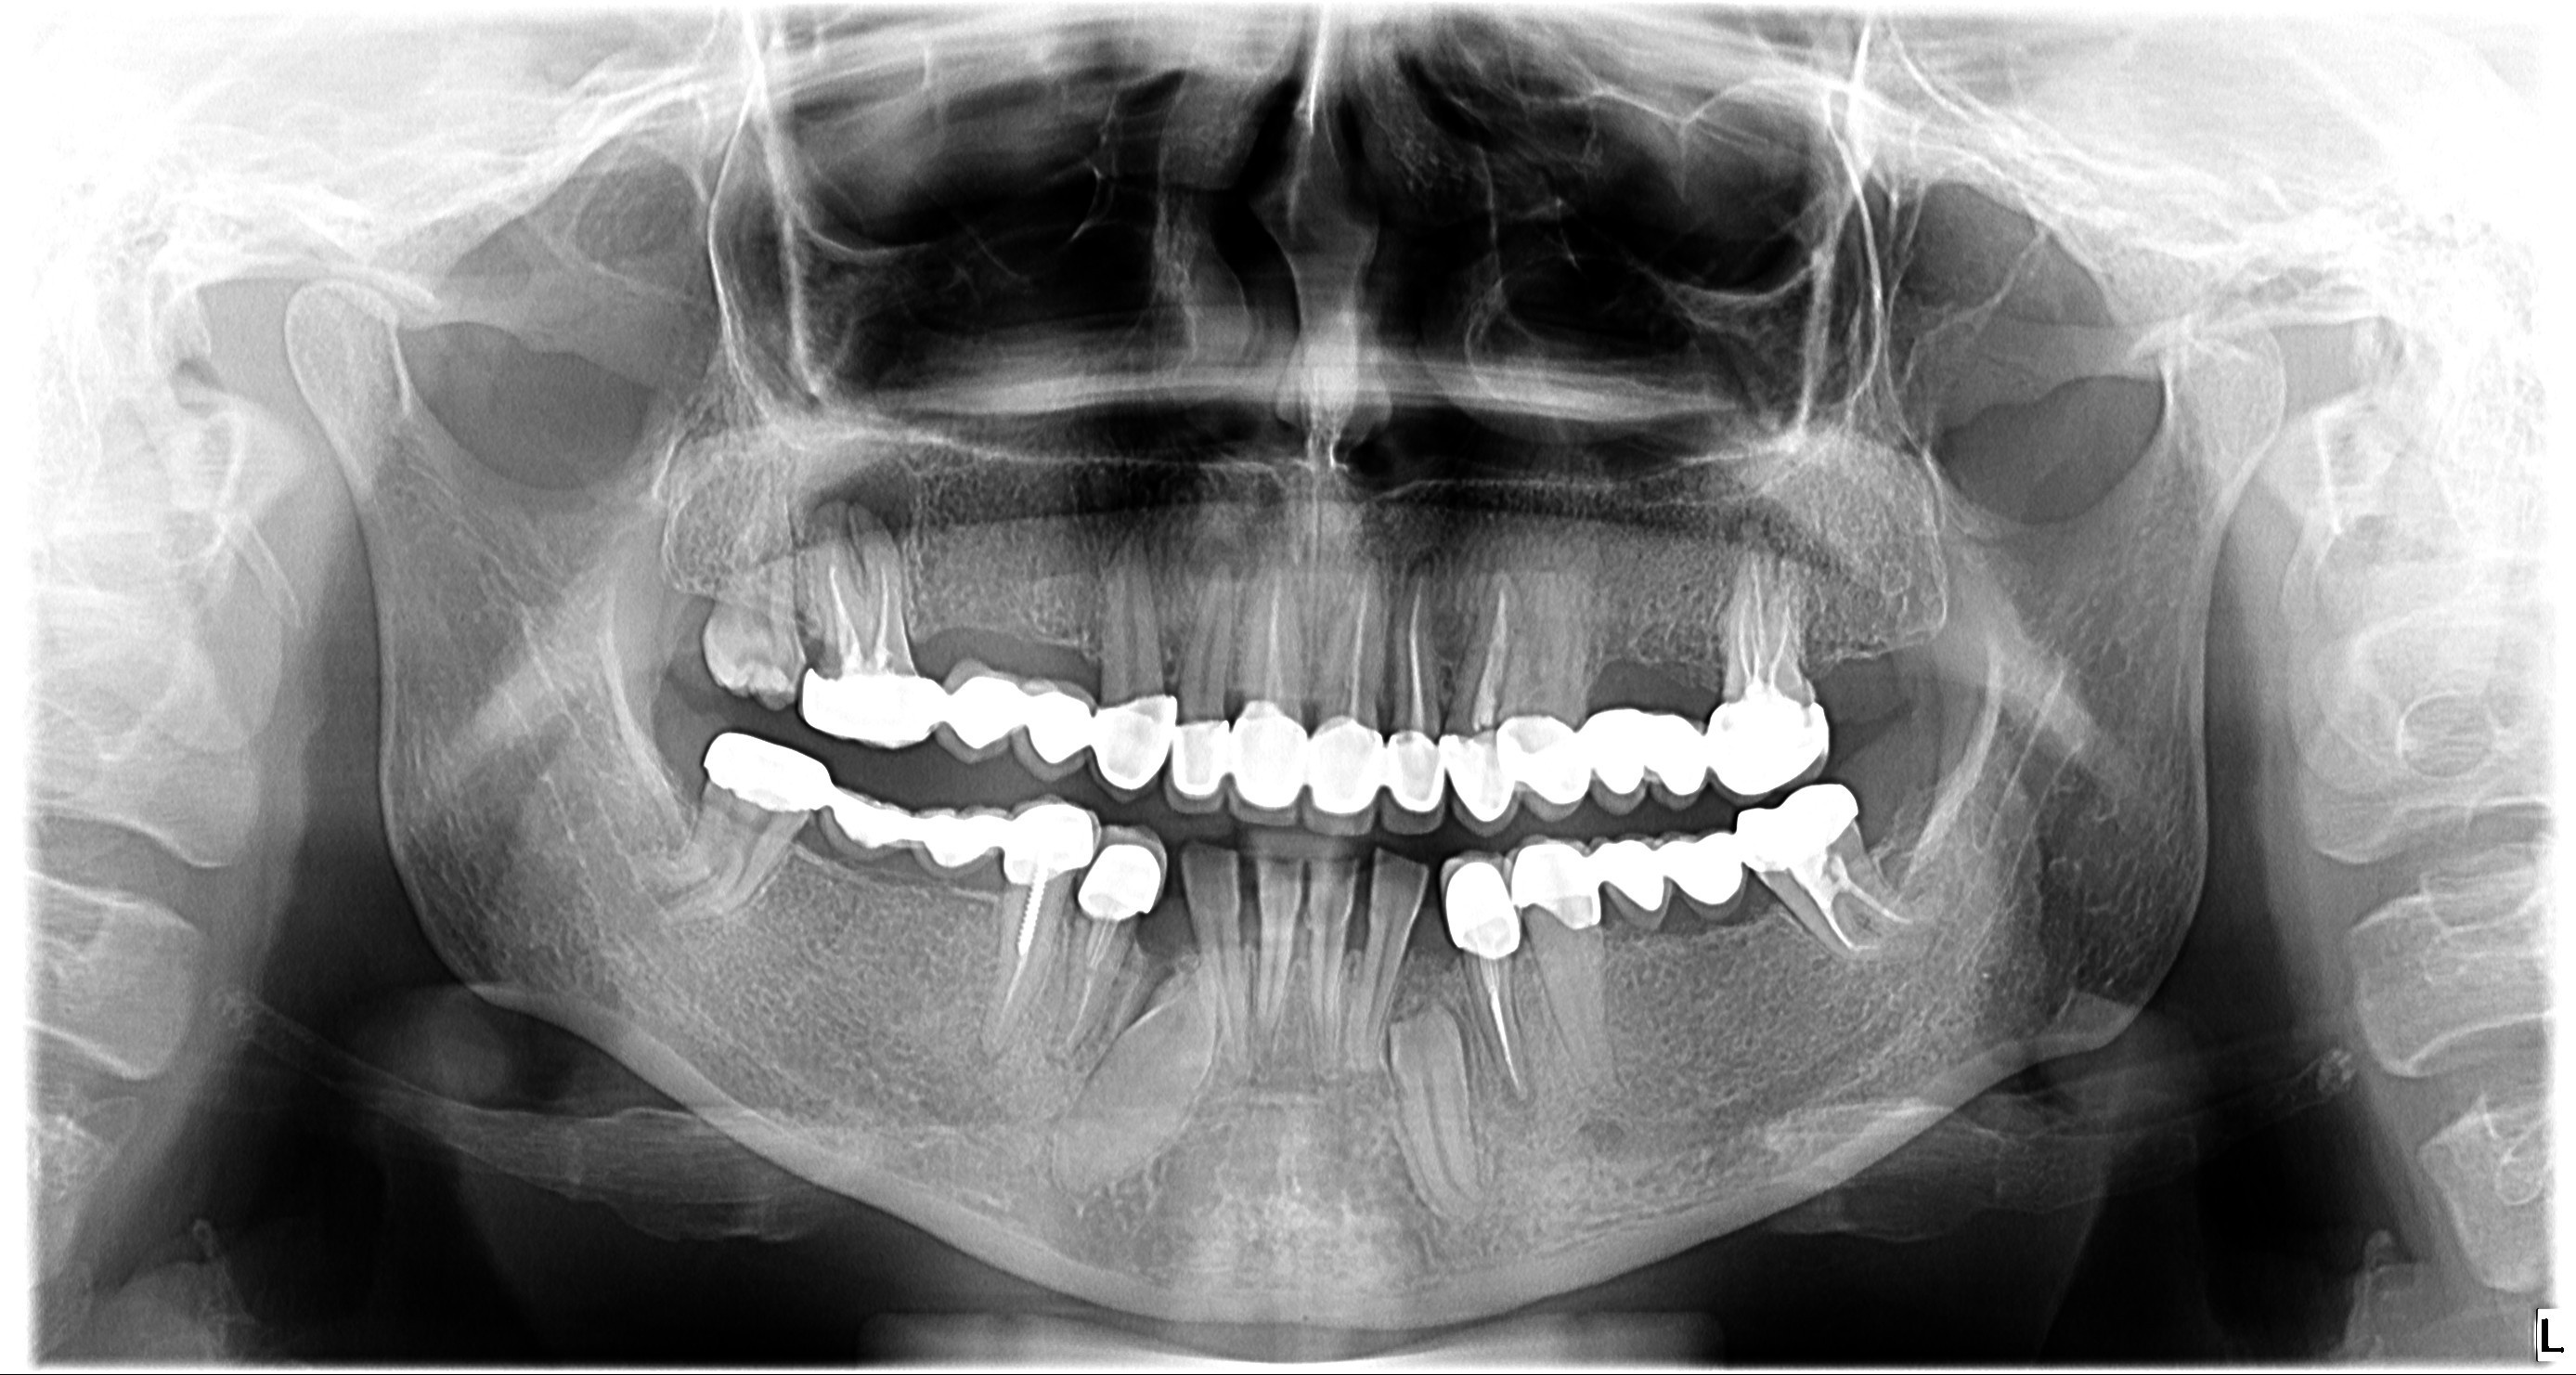API: (799, 457, 925, 549), (1724, 489, 1780, 559), (1193, 537, 1244, 584), (1400, 549, 1443, 601), (1494, 1079, 1537, 1123)
BON: (1051, 956, 1222, 1198), (1389, 998, 1474, 1218)
END: (1801, 866, 1912, 963), (1729, 562, 1792, 697), (825, 554, 893, 673), (997, 891, 1041, 1050), (1472, 579, 1516, 733), (1477, 956, 1528, 1084), (1068, 920, 1114, 1050), (1344, 559, 1371, 729), (1400, 572, 1428, 731), (1261, 569, 1290, 709)
IMT: (913, 625, 1097, 693), (1596, 658, 1722, 717), (1135, 910, 1198, 964), (1409, 925, 1462, 969), (1346, 910, 1371, 956), (1237, 905, 1262, 951), (1285, 922, 1308, 959)
OBT: (1101, 697, 1826, 809), (1438, 835, 1738, 976), (825, 777, 1101, 879), (801, 668, 1094, 760), (1741, 780, 1884, 874), (688, 738, 828, 826), (1084, 833, 1162, 922)
